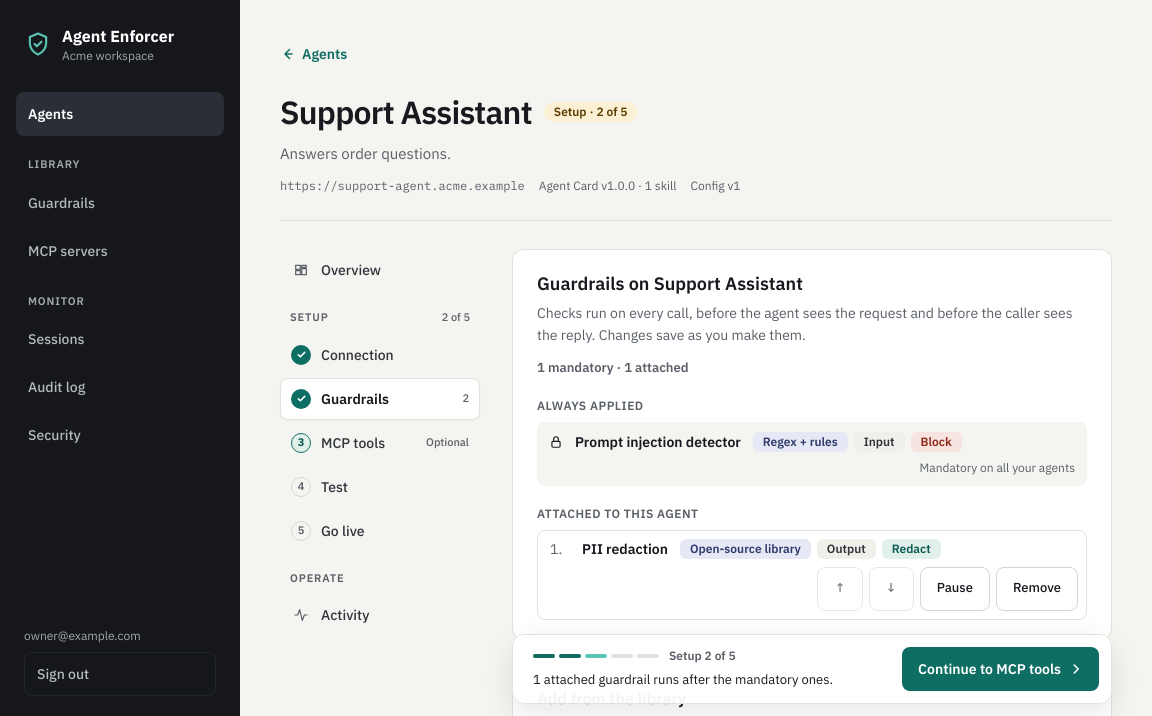
Agent guardrails step (bindings) › removes a binding and returns focus to the heading
Check: the heading "Attached to this agent" is shown, box [537,506,699,520]
Click the button with aria-label "Remove PII redaction" at (1037, 588), box [996,566,1078,610]
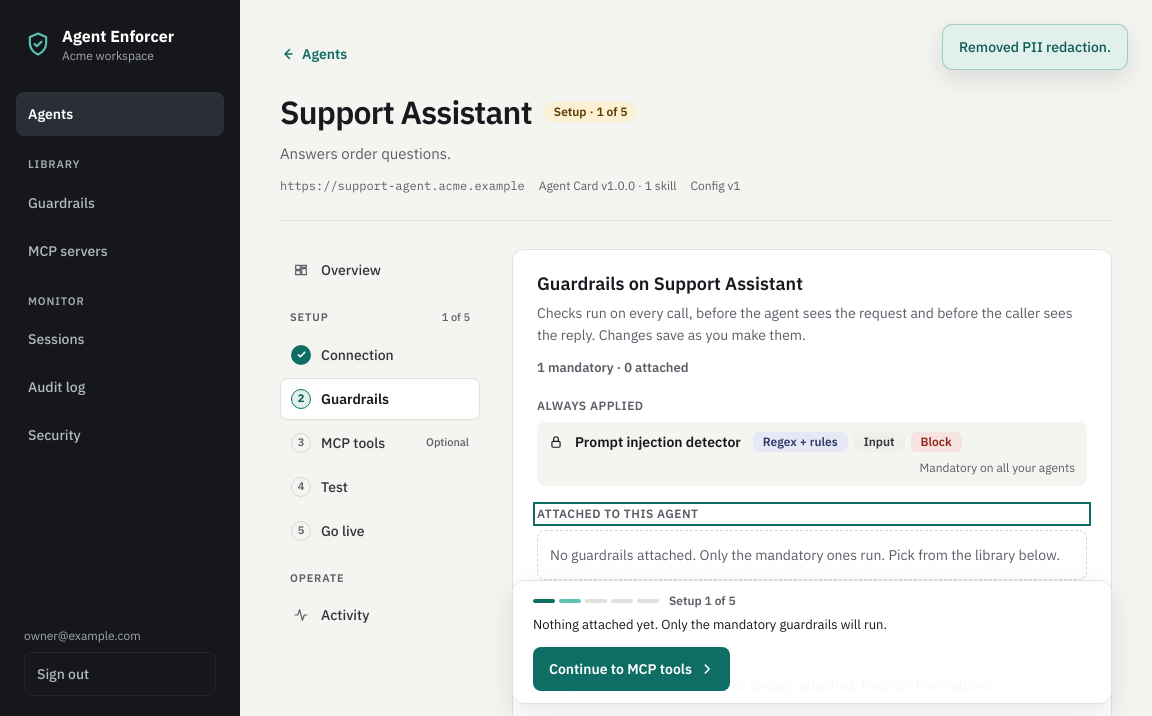
Check: the text "No guardrails attached. Only the mandatory ones run." is shown, box [550,546,1060,564]
